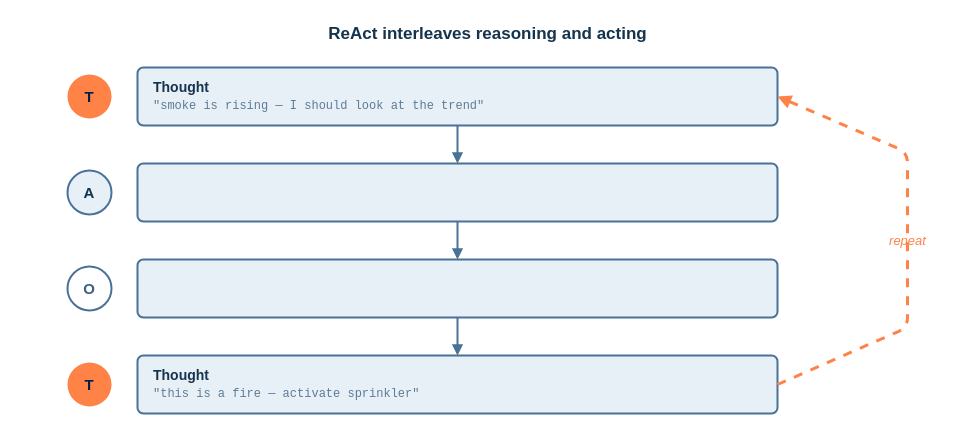
Image size: 974x431. Some labels were removed from this diagram. Each missing label, with the centre of its shape:
Action query_history("A2306", "smoke", "60s"): (457,192)
Observation spike from 0.1 → 0.8 in last 30 seconds: (457,288)
